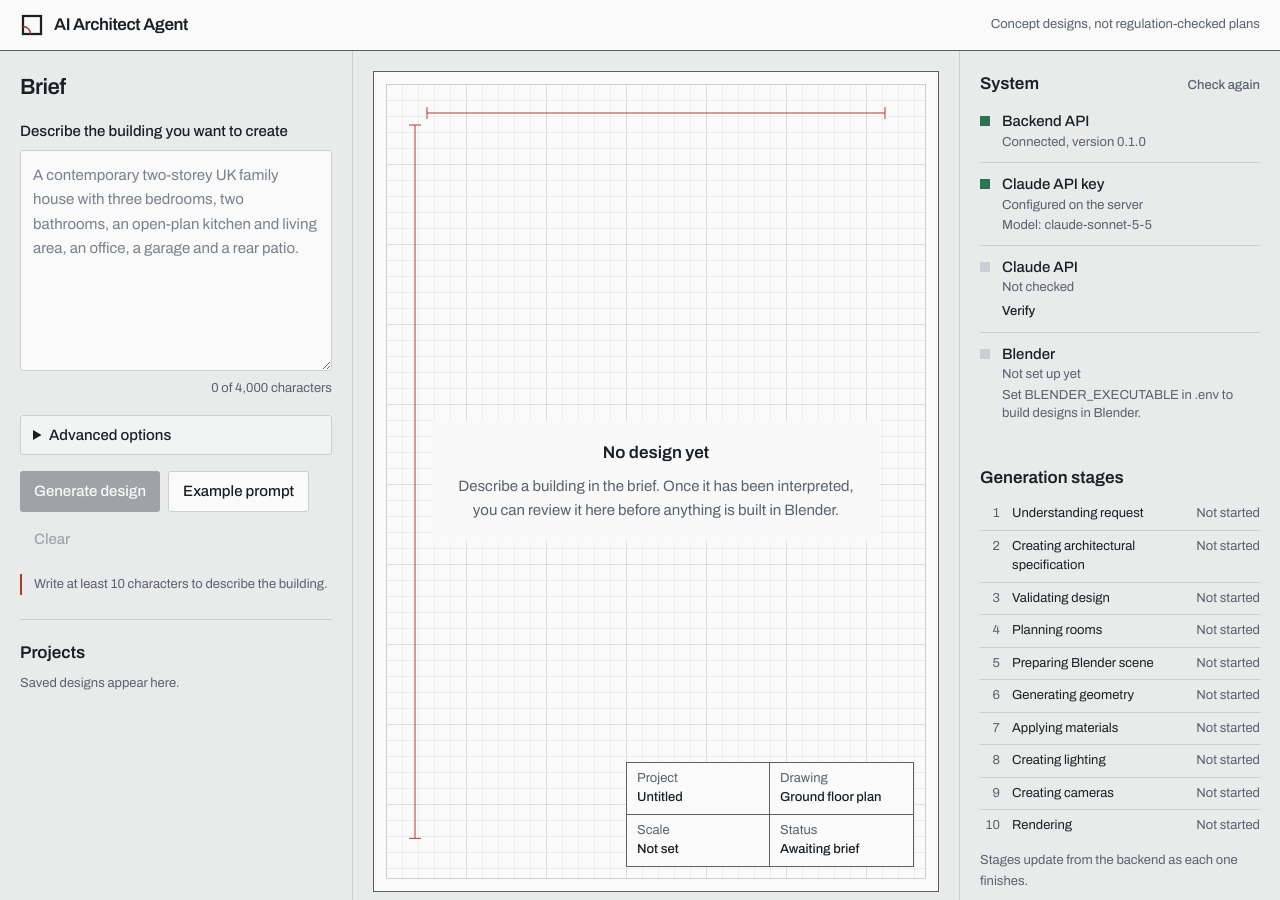
Scenario: App › fills an example prompt and clears it
Check: the text "Connected, version 0.1.0" is shown, box [1002,132,1146,152]
Step 1. Click the button "Example prompt" → (239, 491), box [168,471,309,512]
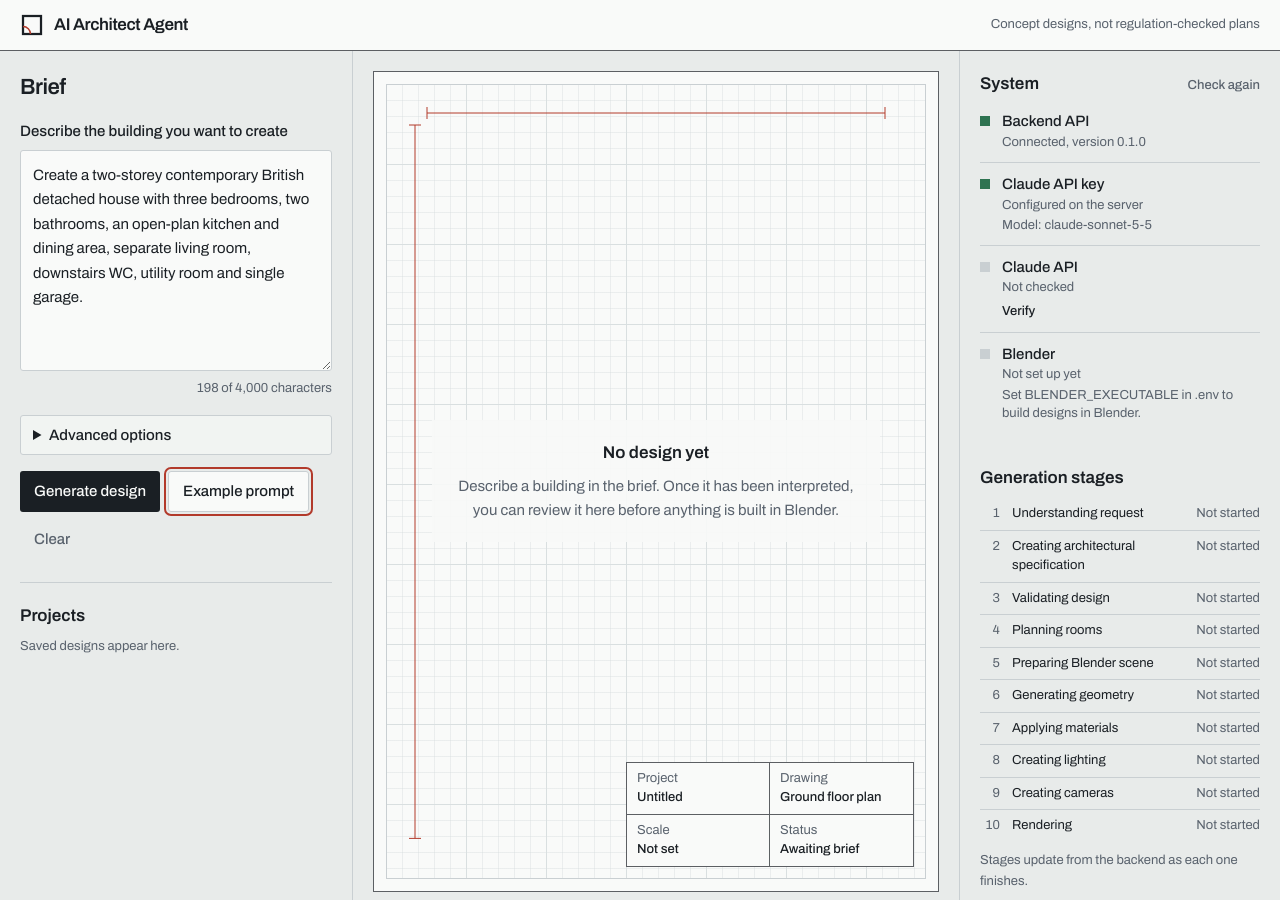
Check: the text box labelled "Describe the building you want to create" holds "Create a two-storey contemporary British detached house with three bedrooms, two bathrooms, an open-plan kitchen and dining area, separate living room, downstai", box [20,150,332,371]
Step 2. Click the button "Clear" → (52, 539), box [20,520,84,558]
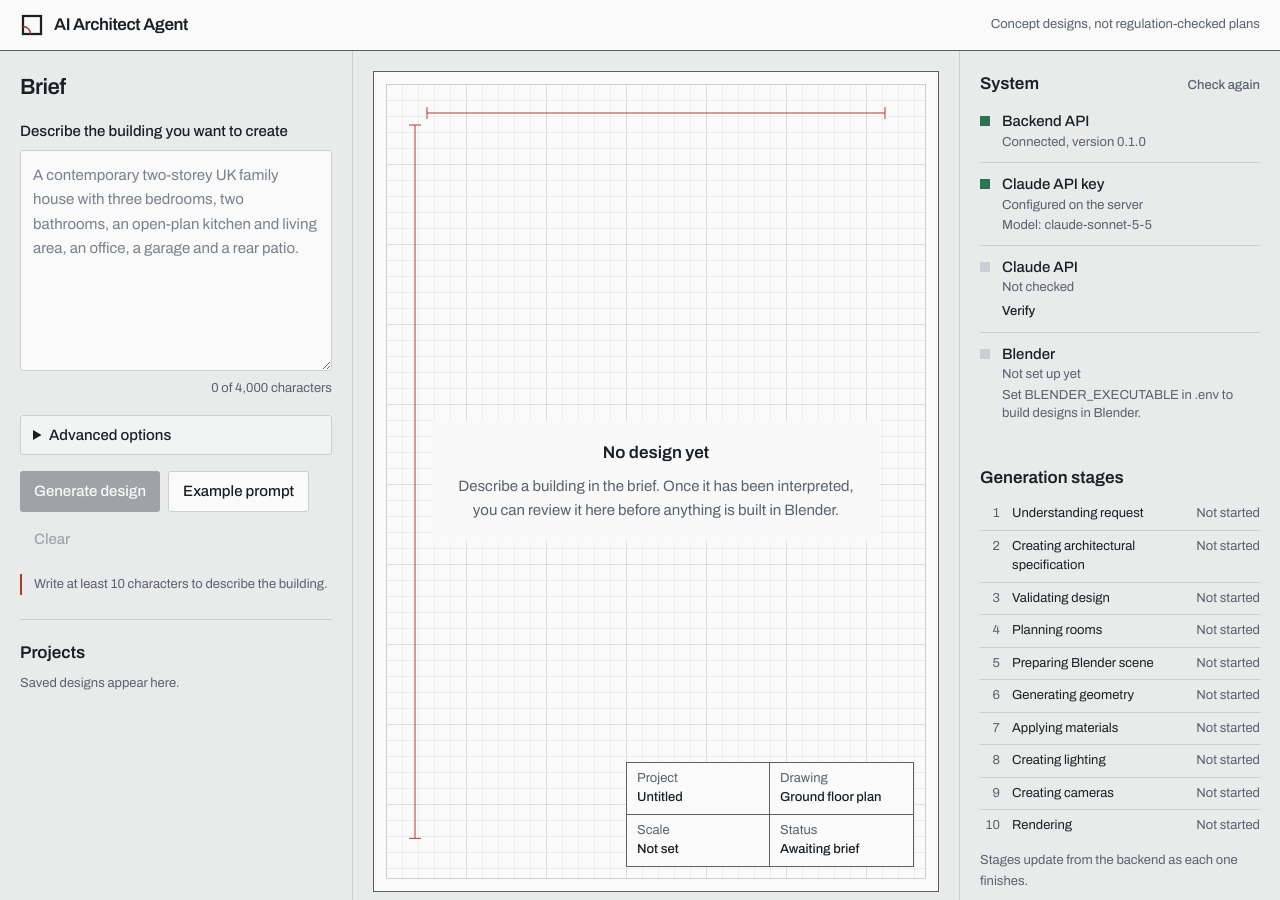
Check: the text box labelled "Describe the building you want to create" is empty, box [20,150,332,371]
